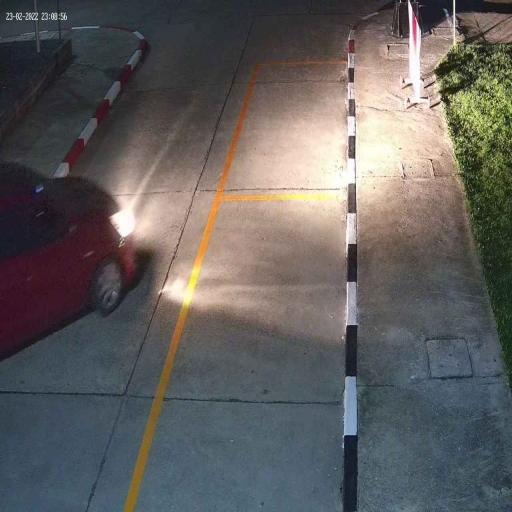car: (0, 157, 139, 361)
